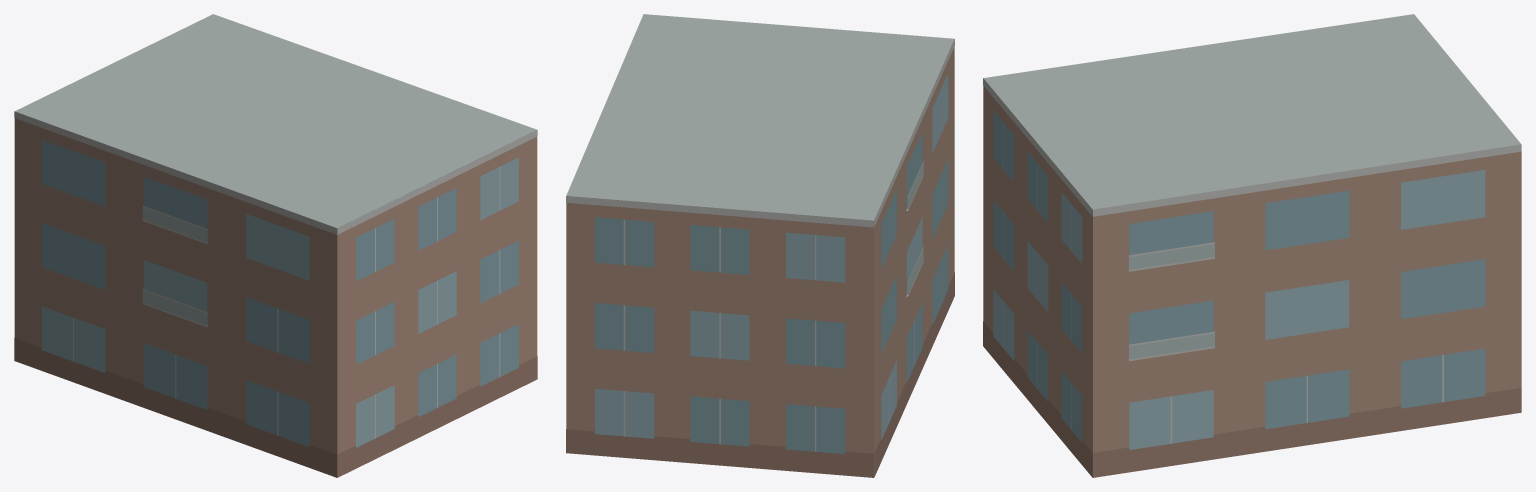
The model's file is survey-upis-32722076.glb.
The picture shows the model from 3 angles, left to right: view 1: azimuth 30°, elevation 25°; view 2: azimuth 150°, elevation 25°; view 3: azimuth 270°, elevation 25°; orthographic projection. The views are drawn at different scales.
Parts seen in each view (by area): view 1: survey-upis-32722076.tmp; view 2: survey-upis-32722076.tmp; view 3: survey-upis-32722076.tmp.
Boxes of the visible parts, <box> form: survey-upis-32722076.tmp: <box>14,14,537,477</box>; survey-upis-32722076.tmp: <box>566,14,954,477</box>; survey-upis-32722076.tmp: <box>983,14,1521,477</box>.
Bounding box in the file's own units: 14.33 × 9.15 × 16.66.
